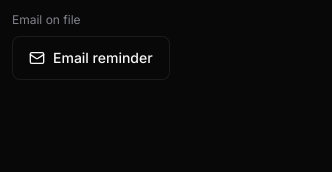
it: Reminder action delivery state › does not treat already_attempted as a successful send
This screenshot has width=332, height=172.
Click the button: (91, 58) [12,36,170,80]
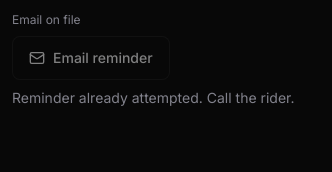
Now the message shows "Call the rider.", box [12,89,294,106]
Now the button is disabled, box [12,36,170,80]
